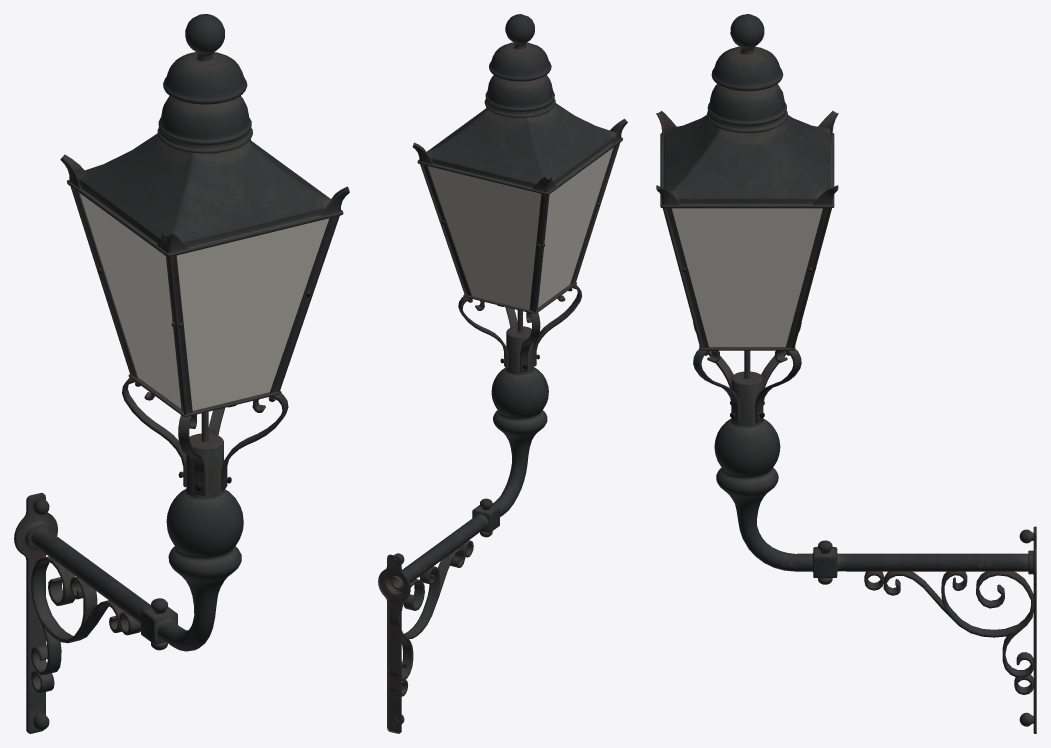
The model's file is street_lamp_02.gltf.
3 views of the same model, side by side, from view 1: azimuth 30°, elevation 25°; view 2: azimuth 150°, elevation 25°; view 3: azimuth 270°, elevation 25° (orthographic). The views are drawn at different scales.
Visible parts, largest first — view 1: lod0; view 2: lod0; view 3: lod0.
Boxes of the visible parts, x1,y1,x2,y2 form: lod0: (14,14,349,733); lod0: (378,14,627,733); lod0: (656,14,1036,733).
Size of what is drawn, in the model's own units: 0.3865 by 1.68 by 0.8067.
Materials: 2 (1 with a texture image).
